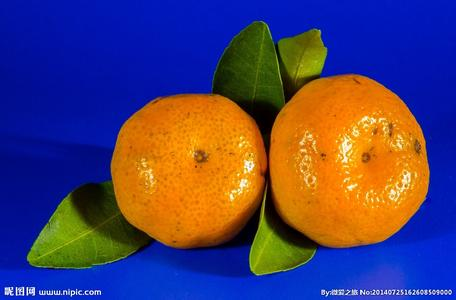orange: (268, 64, 431, 250), (102, 88, 267, 249)
